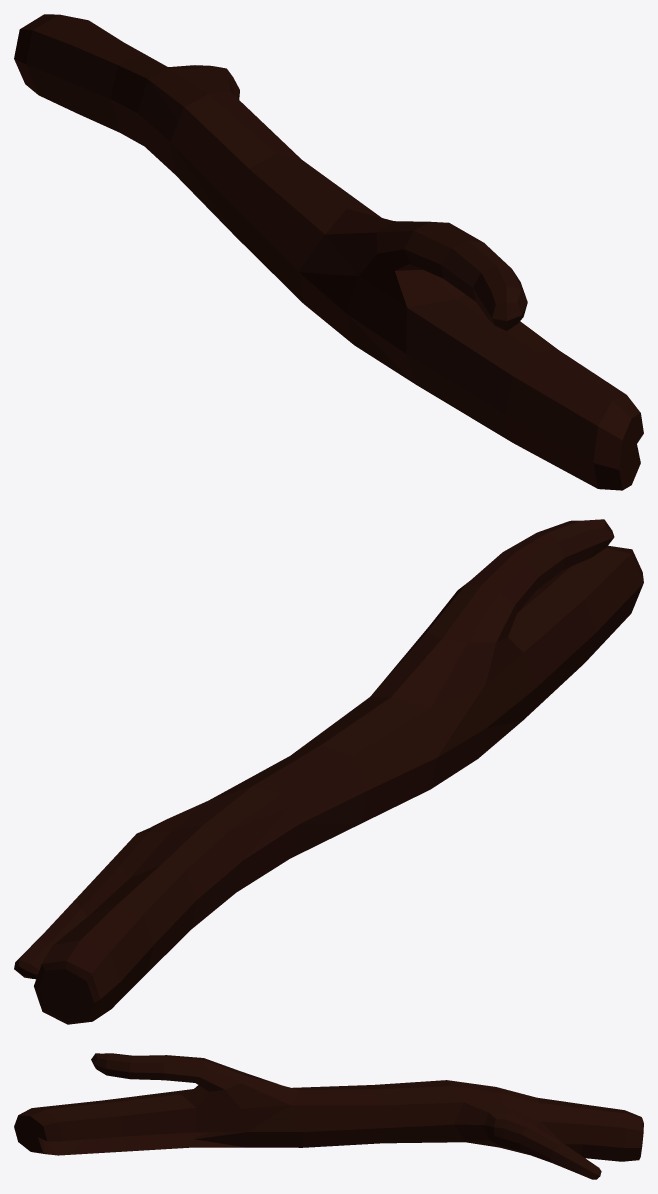
File: Log_01.FBX
The picture shows the model from 3 angles, top to bottom: view 1: azimuth 30°, elevation 25°; view 2: azimuth 150°, elevation 25°; view 3: azimuth 270°, elevation 25°; orthographic projection. The views are drawn at different scales.
Visible parts, largest first — view 1: Log_01, Log_005; view 2: Log_01; view 3: Log_01, Log_005.
Boxes of the visible parts, x1,y1,x2,y2 form: Log_01: [14, 14, 640, 490]; Log_005: [619, 413, 643, 490]; Log_01: [14, 519, 643, 1024]; Log_01: [18, 1053, 643, 1179]; Log_005: [14, 1115, 46, 1152].
Bounding box in the file's own units: 2.7 × 2.79 × 16.75.
